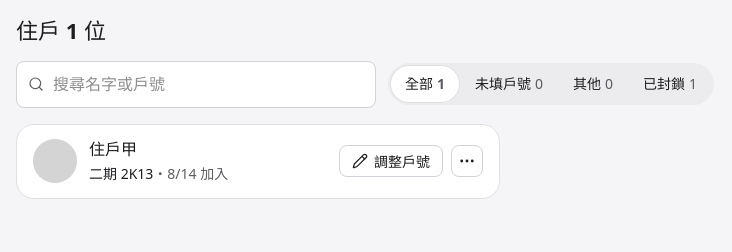
Test: ResidentMemberManagementApp › shows verified LINE residents without internal identity fields
The width and height of the screenshot is (732, 252).
Check: the heading "住戶 1 位" is shown, box [16,16,106,45]
Check: the text "二期 2K13" is shown, box [89,164,153,183]
Click the button named "更多操作 住戶甲" at (467, 161), box [451,145,483,177]
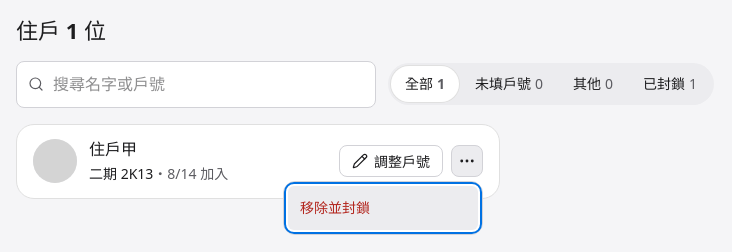
Press Escape
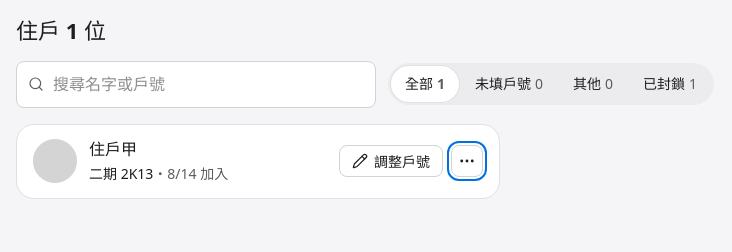
Check: the text "陌生住戶" is not shown
Click the radio button labelled "已封鎖 1" at (670, 84), box [643,74,697,93]
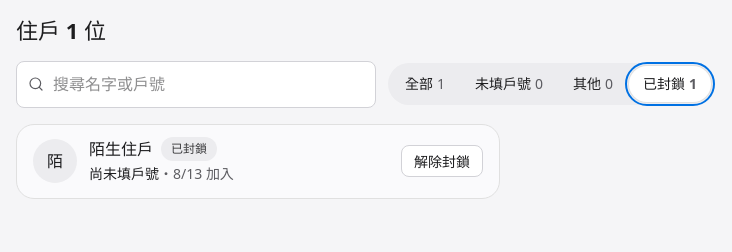
Check: the heading "陌生住戶" is shown, box [89,139,153,160]
Check: the text "已封鎖" is shown, box [161,137,217,161]
